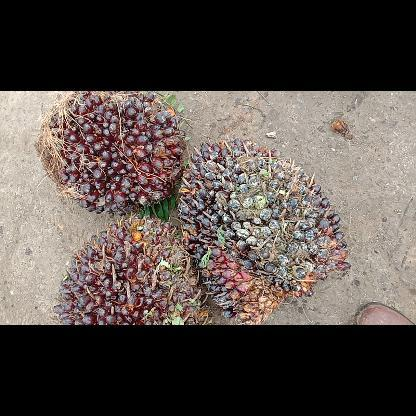Kurang masak: (35, 91, 185, 216), (53, 214, 209, 324)
TBS mentah: (178, 142, 350, 324)
